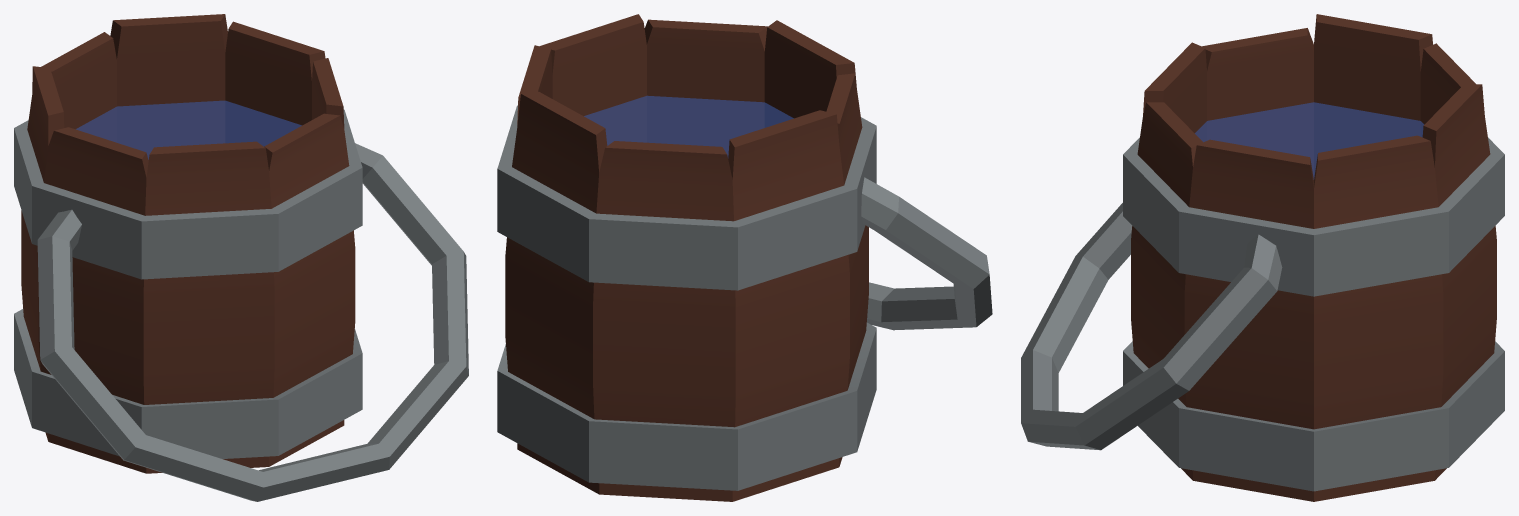
The model's file is water_bucket.fbx.
The picture shows the model from 3 angles, left to right: view 1: azimuth 30°, elevation 25°; view 2: azimuth 150°, elevation 25°; view 3: azimuth 270°, elevation 25°; orthographic projection. The views are drawn at different scales.
Parts seen in each view (by area): view 1: water_bucket; view 2: water_bucket; view 3: water_bucket.
Boxes of the visible parts, x1=… form: water_bucket: x1=14, y1=14, x2=468, y2=501; water_bucket: x1=497, y1=14, x2=992, y2=501; water_bucket: x1=1021, y1=14, x2=1504, y2=501.
Size of the model in its own units: 5.23 by 3.85 by 4.86.
